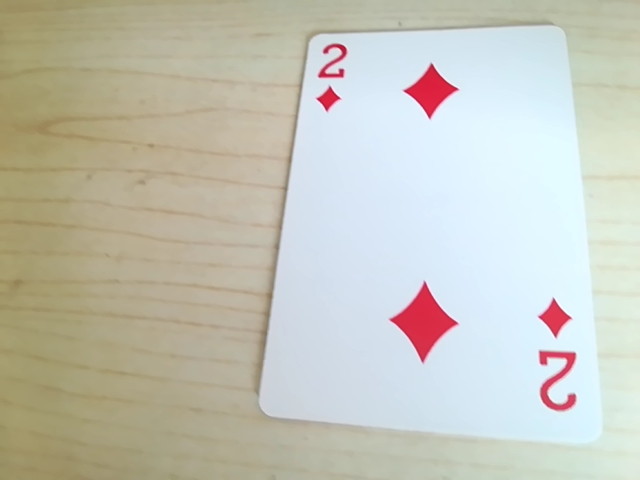fk 2: (533, 302, 584, 431), (305, 36, 349, 119)
